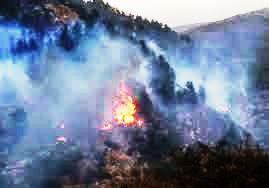fire: (101, 85, 150, 133)
